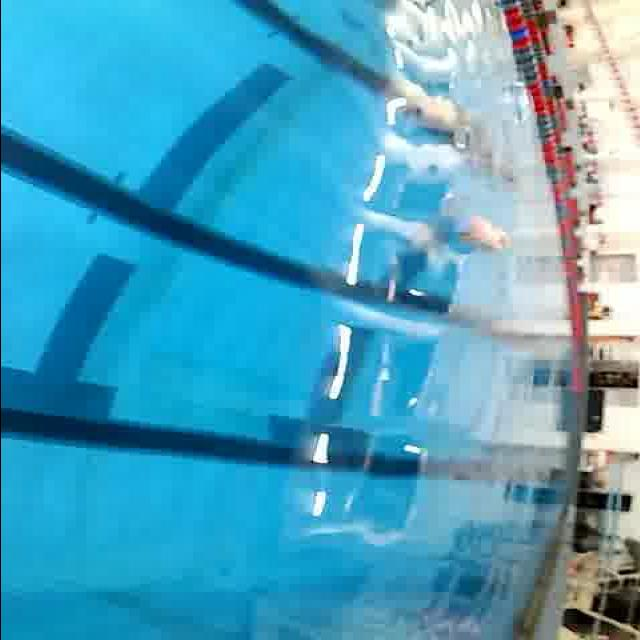Bottle: (432, 207, 518, 257)
